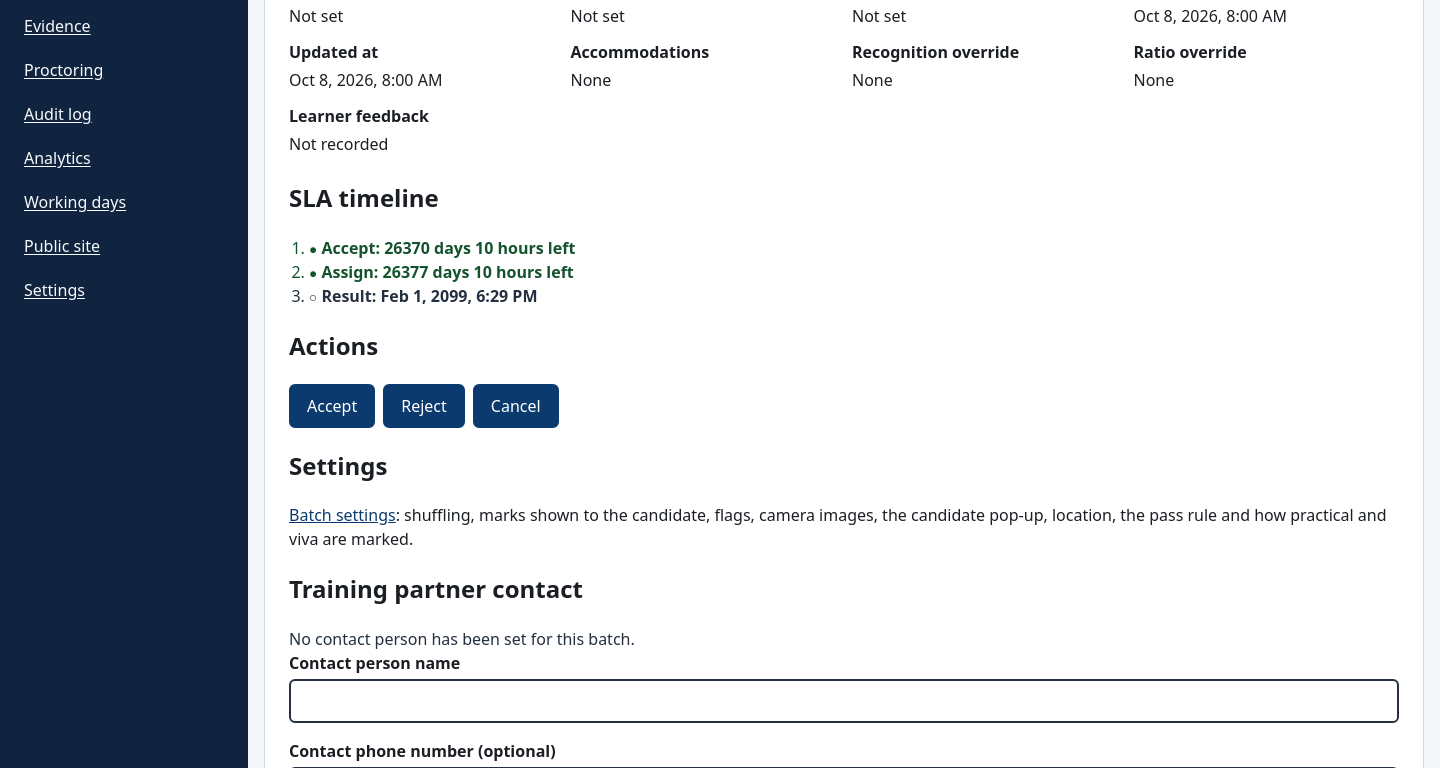
Scenario: requires a reason to reject
(page scrolled)
Click the button "Reject" at (424, 406), box [383,384,465,428]
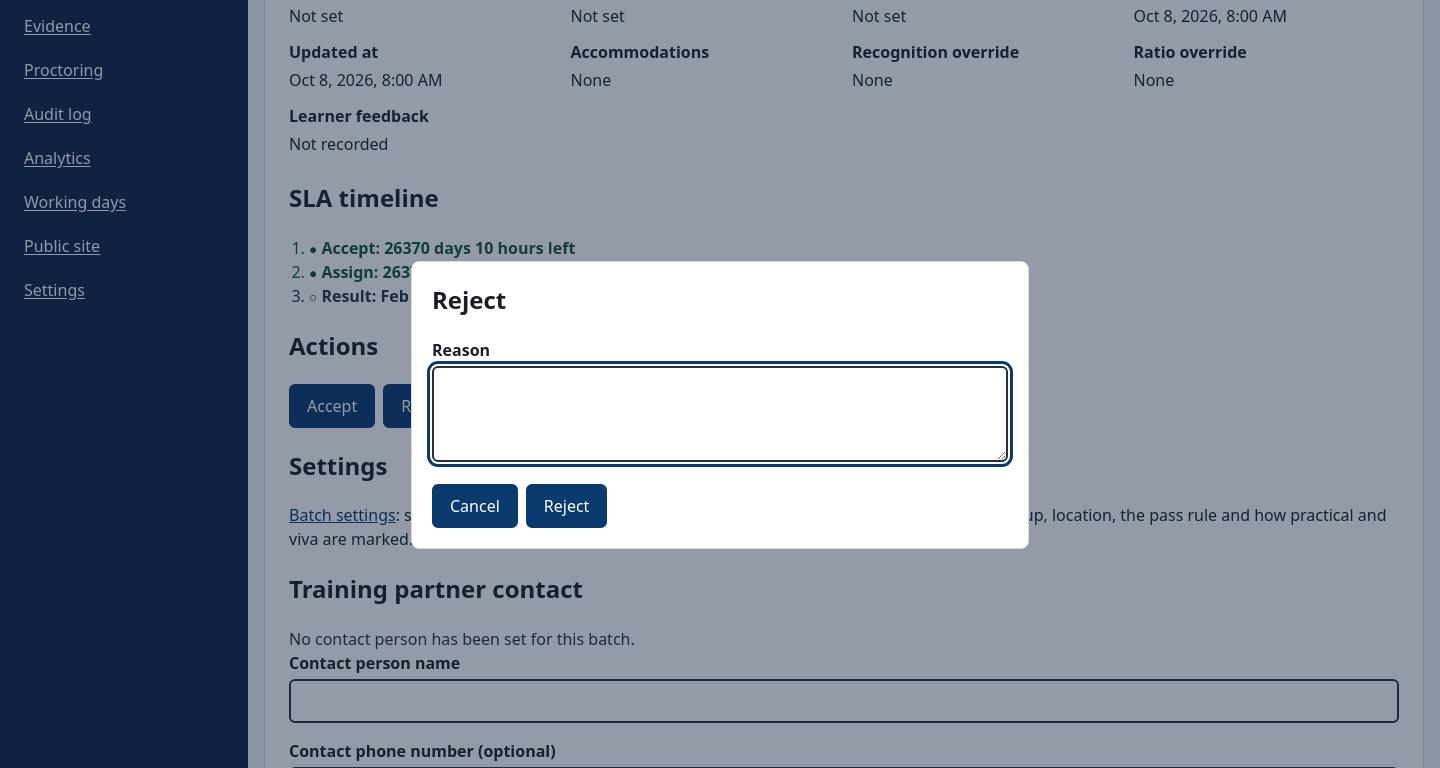
Click the button "Reject" at (567, 506), box [526,484,607,528]
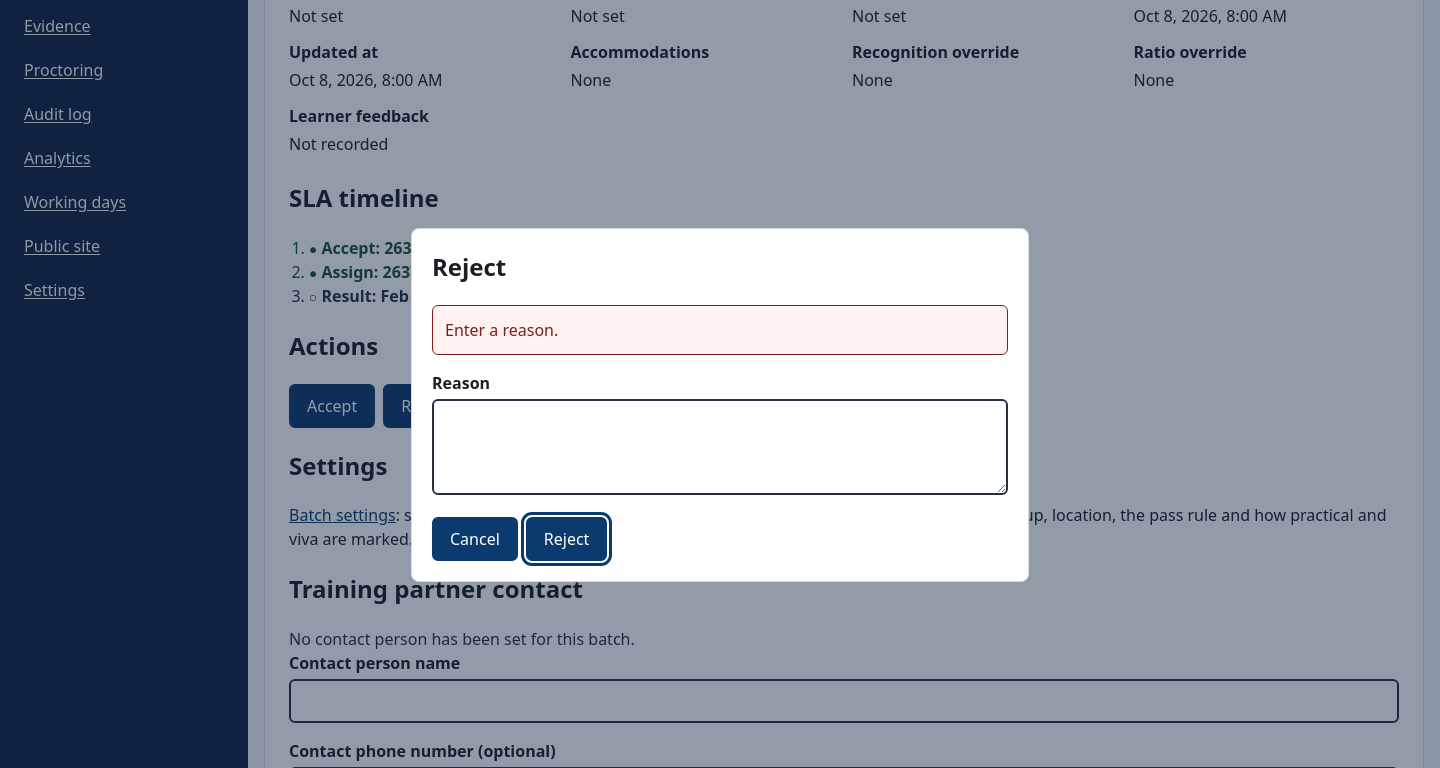
Expected: the message shows "Enter a reason", [445,319,558,341]
